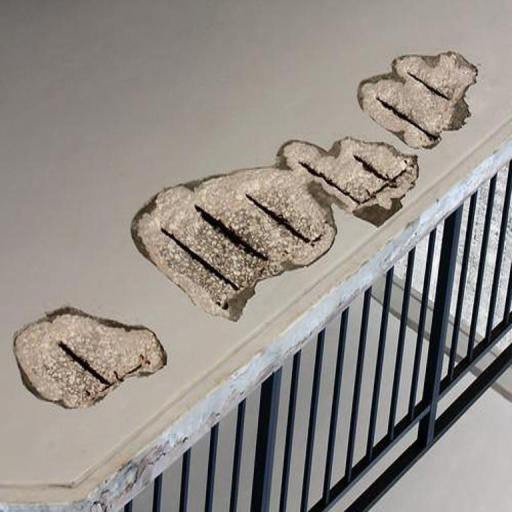spalling: (131, 133, 422, 324), (16, 306, 174, 424), (350, 46, 487, 147)
